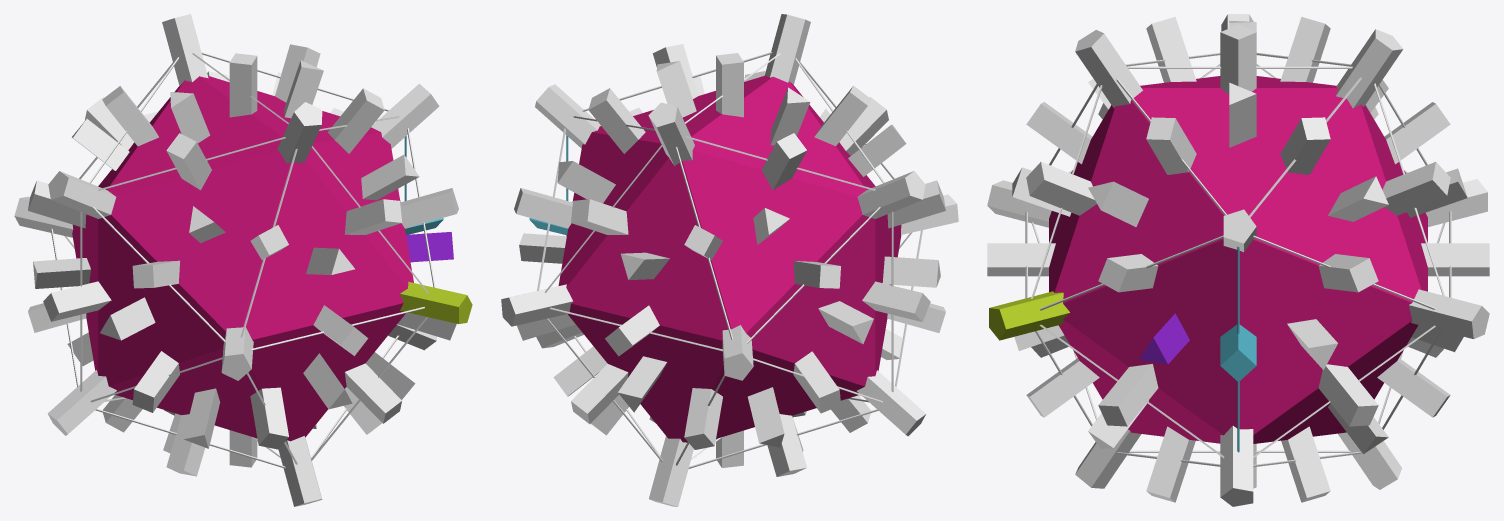
Rendered from Axis.fbx.
The picture shows the model from 3 angles, left to right: view 1: azimuth 30°, elevation 25°; view 2: azimuth 150°, elevation 25°; view 3: azimuth 270°, elevation 25°; orthographic projection. The views are drawn at different scales.
Visible parts, largest first — view 1: Platonic, Cylinder_0_3, Cylinder_6_3, Cylinder_11_3, Cylinder_9_3, Cylinder_10_3, Cylinder_2_3, Cylinder_12, Cylinder_4, Cylinder_19, Cylinder_13, Cylinder_7_3 (+33 smaller); view 2: Platonic, Cylinder_7_3, Cylinder_3_3, Cylinder_4_3, Cylinder_11_3, Cylinder_9_3, Cylinder_10_3, Cylinder_10, Cylinder_21, Cylinder_8, Cylinder_15, Cylinder_6_3 (+33 smaller); view 3: Platonic, Cylinder_6_3, Cylinder_7_3, Cylinder_4_3, Cylinder_0_3, Cylinder_8_3, Cylinder_14, Cylinder_1, Cylinder_11, Cylinder_7, Cylinder_13, Cylinder_3 (+31 smaller).
Boxes of the visible parts, left/top/right/bottom form: Platonic: left=72, top=76, right=413, bottom=441; Cylinder_0_3: left=400, top=281, right=472, bottom=323; Cylinder_6_3: left=162, top=14, right=208, bottom=85; Cylinder_11_3: left=47, top=370, right=116, bottom=435; Cylinder_9_3: left=371, top=83, right=439, bottom=148; Cylinder_10_3: left=48, top=171, right=116, bottom=218; Cylinder_2_3: left=278, top=436, right=322, bottom=506; Cylinder_12: left=327, top=88, right=384, bottom=153; Cylinder_4: left=344, top=363, right=401, bottom=423; Cylinder_19: left=250, top=387, right=288, bottom=449; Cylinder_13: left=229, top=53, right=257, bottom=117; Cylinder_7_3: left=277, top=102, right=322, bottom=163; Platonic: left=558, top=75, right=901, bottom=442; Cylinder_7_3: left=764, top=14, right=810, bottom=84; Cylinder_3_3: left=649, top=436, right=693, bottom=506; Cylinder_4_3: left=501, top=284, right=573, bottom=326; Cylinder_11_3: left=857, top=370, right=925, bottom=436; Cylinder_9_3: left=535, top=84, right=600, bottom=148; Cylinder_10_3: left=857, top=171, right=925, bottom=218; Cylinder_10: left=588, top=88, right=645, bottom=153; Cylinder_21: left=684, top=388, right=722, bottom=449; Cylinder_8: left=571, top=364, right=628, bottom=424; Cylinder_15: left=862, top=281, right=930, bottom=321; Cylinder_6_3: left=648, top=102, right=694, bottom=165; Platonic: left=1049, top=76, right=1427, bottom=443; Cylinder_6_3: left=1336, top=29, right=1403, bottom=108; Cylinder_7_3: left=1075, top=30, right=1142, bottom=108; Cylinder_4_3: left=1409, top=289, right=1489, bottom=339; Cylinder_0_3: left=989, top=291, right=1070, bottom=340; Cylinder_8_3: left=1220, top=425, right=1253, bottom=506; Cylinder_14: left=1026, top=162, right=1096, bottom=215; Cylinder_1: left=1098, top=364, right=1158, bottom=426; Cylinder_11: left=1382, top=162, right=1450, bottom=215; Cylinder_7: left=1318, top=364, right=1378, bottom=426; Cylinder_13: left=1220, top=24, right=1256, bottom=94; Cylinder_3: left=1146, top=426, right=1195, bottom=502.
Bounding box in the file's own units: 415 × 415 × 415.
